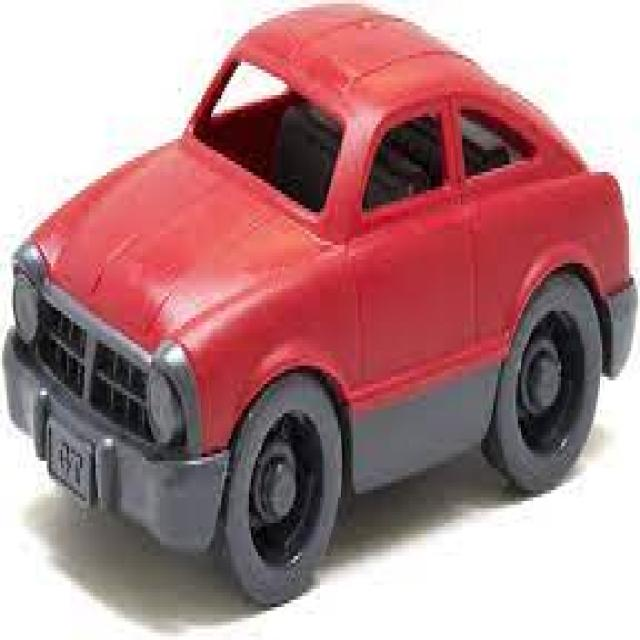Car: (2, 0, 636, 607)
